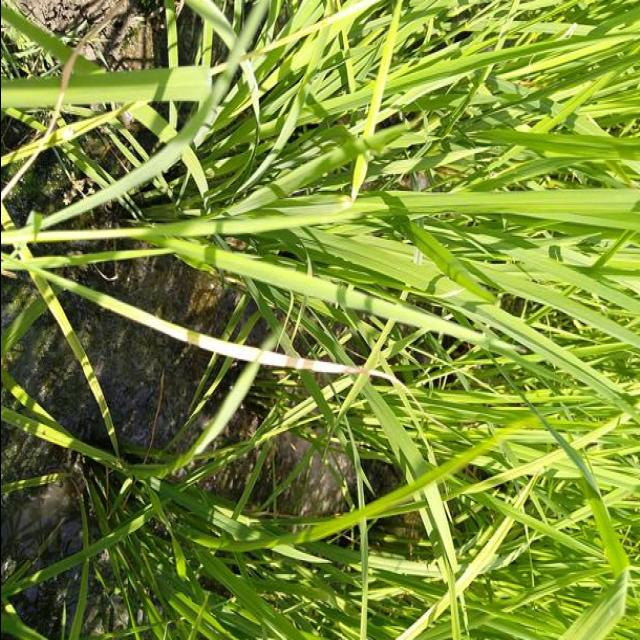Leaf Blight: (62, 278, 362, 375)
